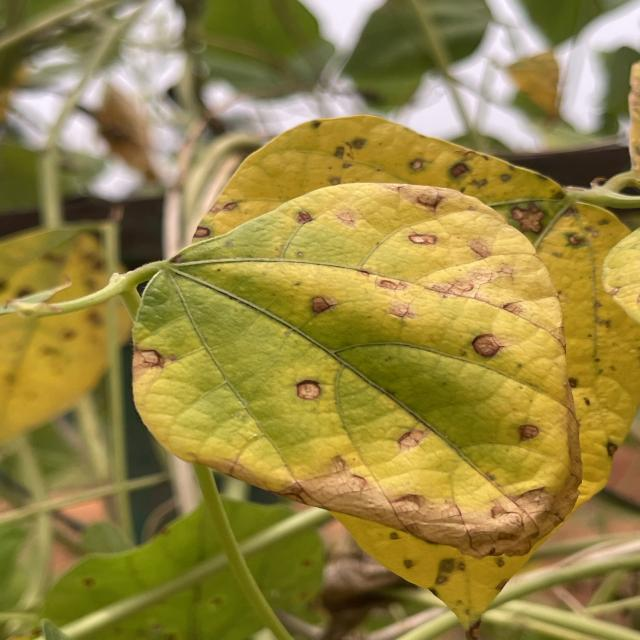Dolicos bean_cercospora leaf spot: (136, 192, 587, 550)
